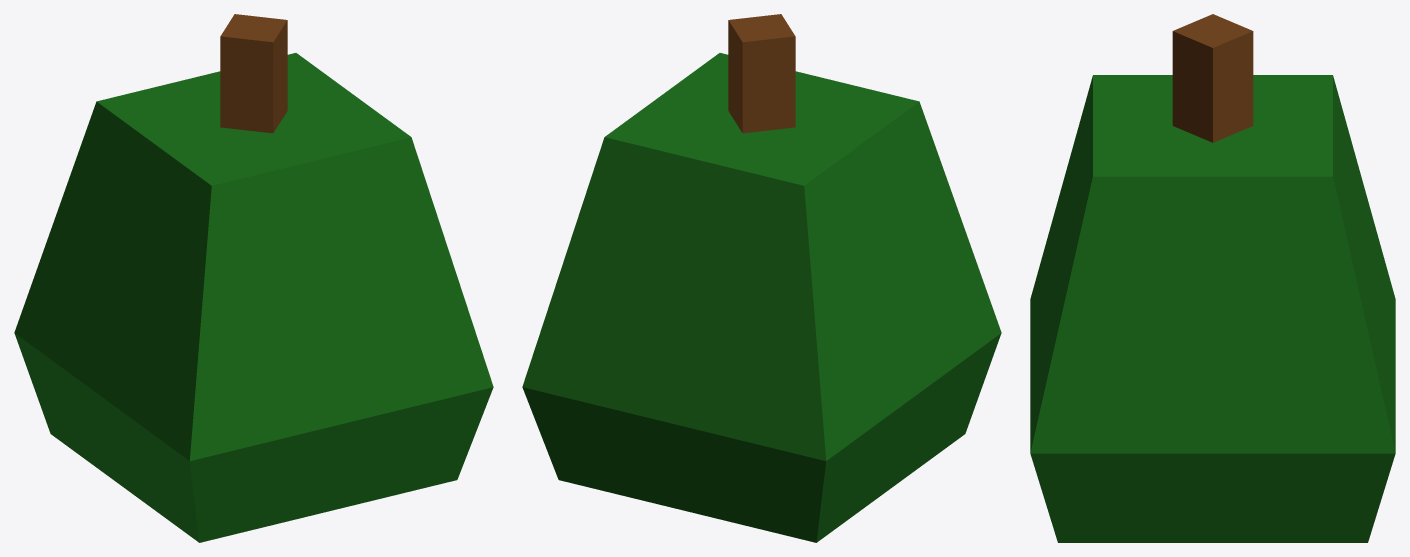
Rendered from Pear.fbx.
3 renders of one model, left to right at view 1: azimuth 30°, elevation 25°; view 2: azimuth 150°, elevation 25°; view 3: azimuth 270°, elevation 25°, orthographic. The views are drawn at different scales.
Parts seen in each view (by area): view 1: polySurface18; view 2: polySurface18; view 3: polySurface18.
Boxes of the visible parts, bbox=[...] form: polySurface18: bbox=[14, 14, 493, 542]; polySurface18: bbox=[522, 14, 1001, 542]; polySurface18: bbox=[1030, 14, 1395, 542].
Bounding box in the file's own units: 41.76 × 56.32 × 41.76.
